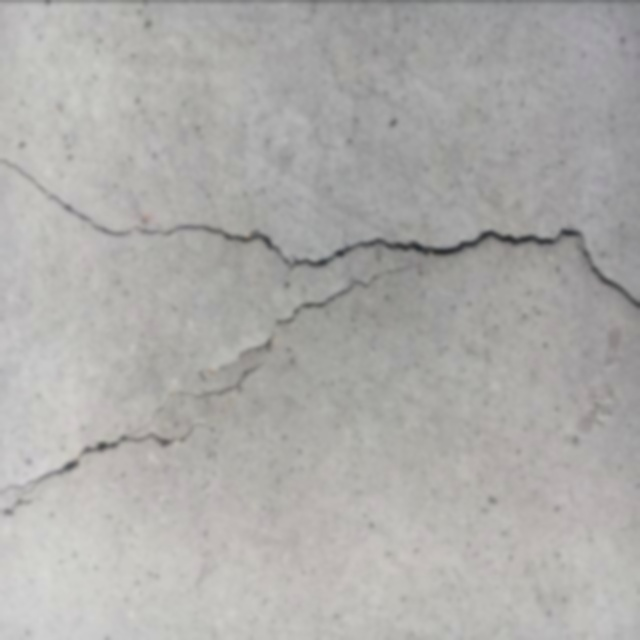SurfaceCrack: (1, 135, 640, 328), (0, 270, 427, 544)
